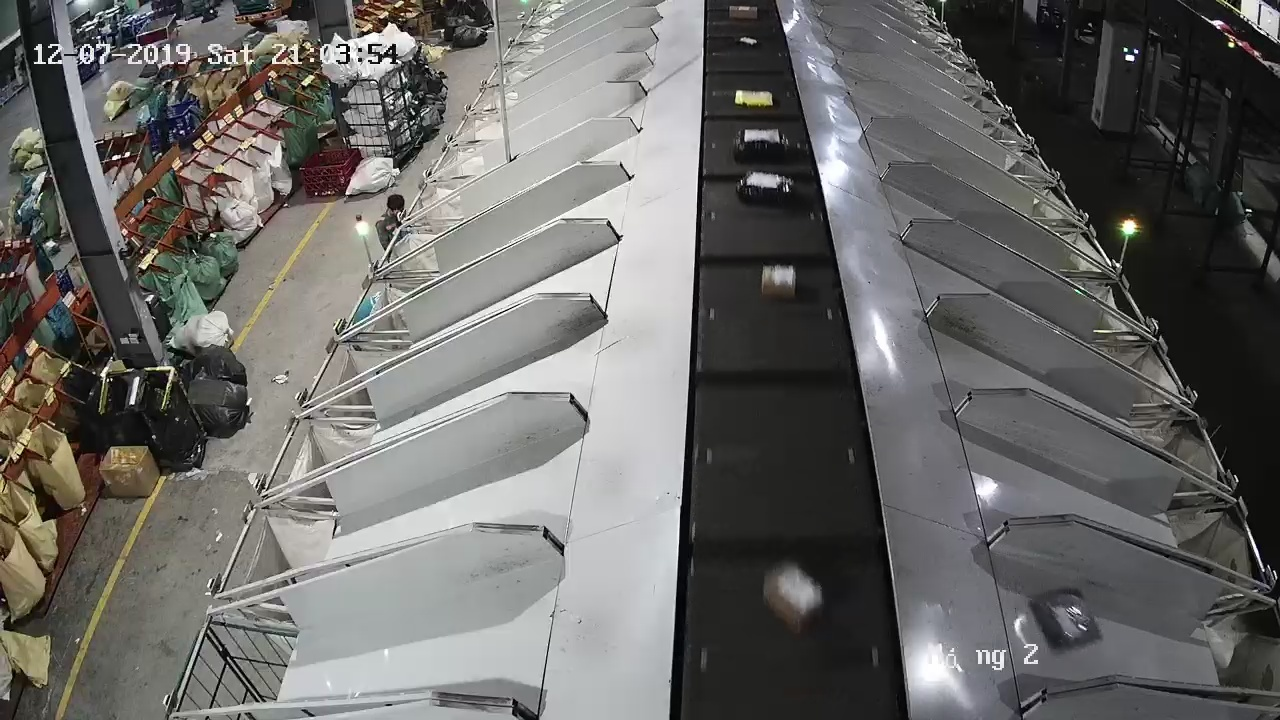parcel: (1028, 587, 1102, 650)
